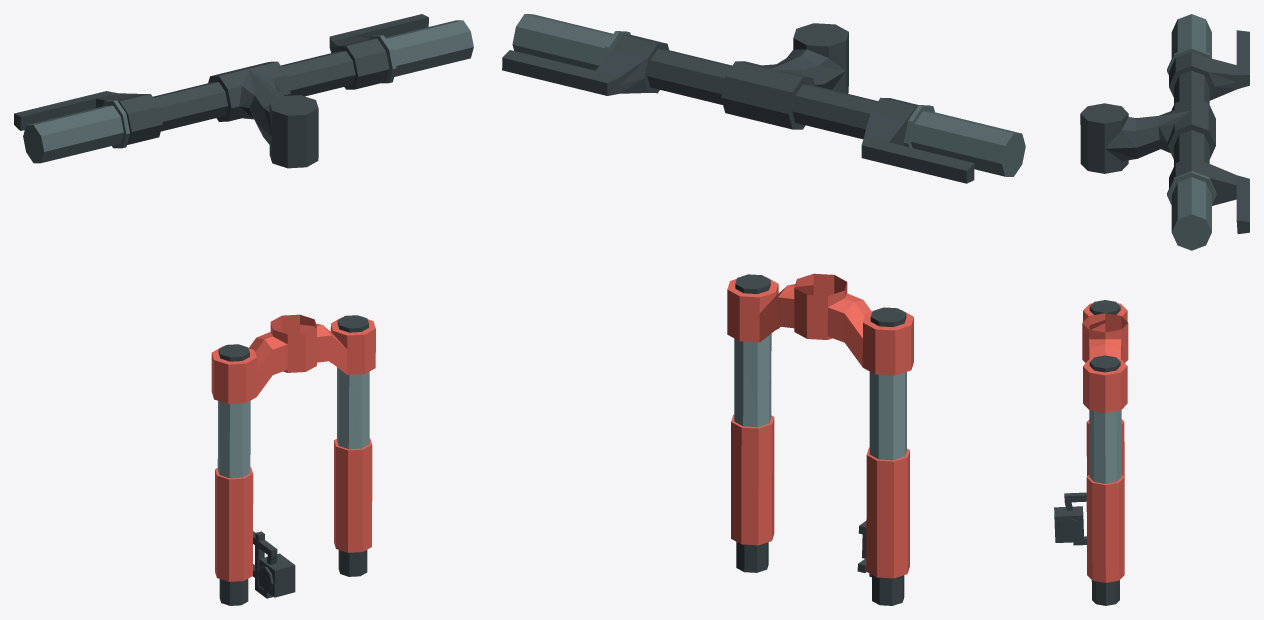
Rendered from arcadeNew.fbx.
The picture shows the model from 3 angles, left to right: view 1: azimuth 30°, elevation 25°; view 2: azimuth 150°, elevation 25°; view 3: azimuth 270°, elevation 25°; orthographic projection. The views are drawn at different scales.
Visible parts, largest first — view 1: 龍頭合併+煞車; view 2: 龍頭合併+煞車; view 3: 龍頭合併+煞車.
Boxes of the visible parts, left/top/right/bottom form: 龍頭合併+煞車: left=14, top=14, right=473, bottom=605; 龍頭合併+煞車: left=502, top=14, right=1025, bottom=605; 龍頭合併+煞車: left=1054, top=14, right=1249, bottom=605.
Bounding box in the file's own units: 75.39 × 81.2 × 31.16.
